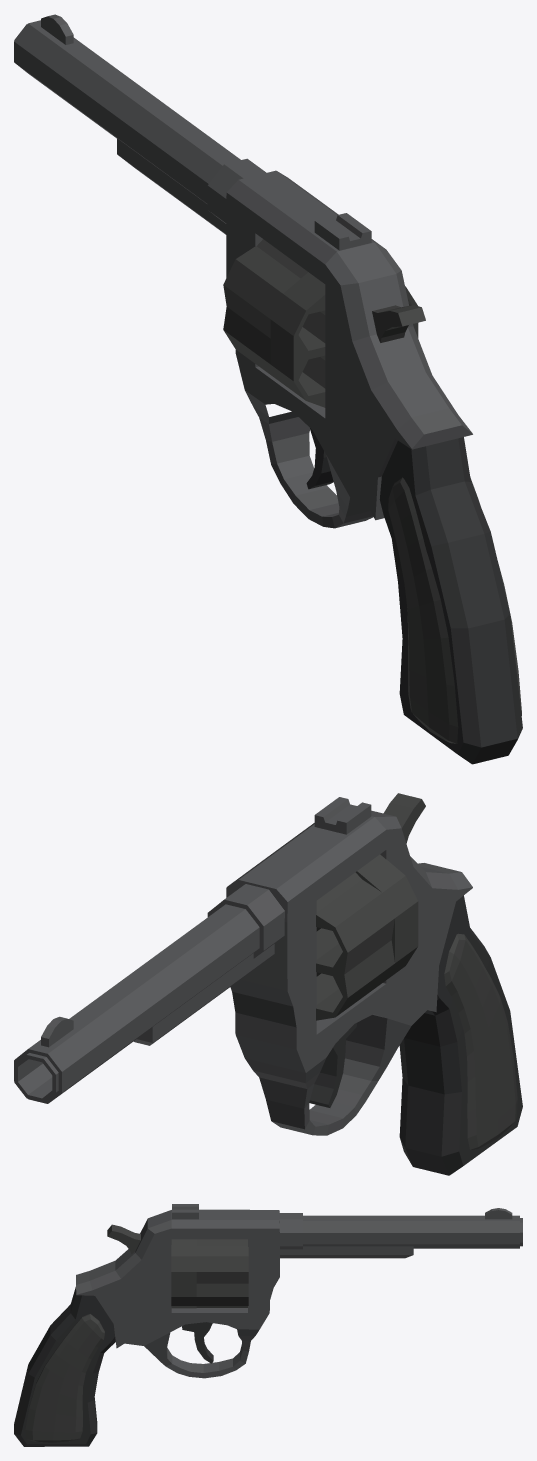
Rendered from magnum.glb.
3 renders of one model, top to bottom at view 1: azimuth 30°, elevation 25°; view 2: azimuth 150°, elevation 25°; view 3: azimuth 270°, elevation 25°, orthographic. The views are drawn at different scales.
Parts seen in each view (by area): view 1: Revolver_5; view 2: Revolver_5; view 3: Revolver_5.
Boxes of the visible parts, x1=… form: Revolver_5: x1=14, y1=14, x2=522, y2=764; Revolver_5: x1=14, y1=793, x2=522, y2=1175; Revolver_5: x1=14, y1=1204, x2=522, y2=1446.
Size of the model in its own units: 0.0464 by 0.1519 by 0.3.
Materials: 1 (1 with a texture image).
